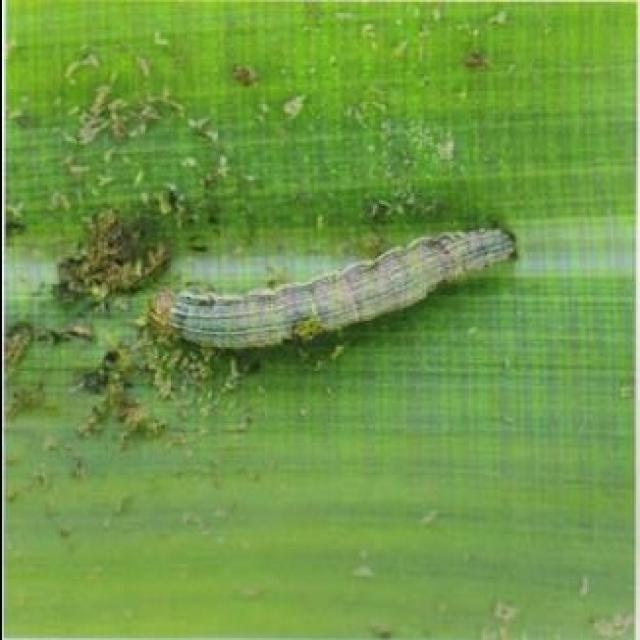army worm: (128, 217, 522, 380)
